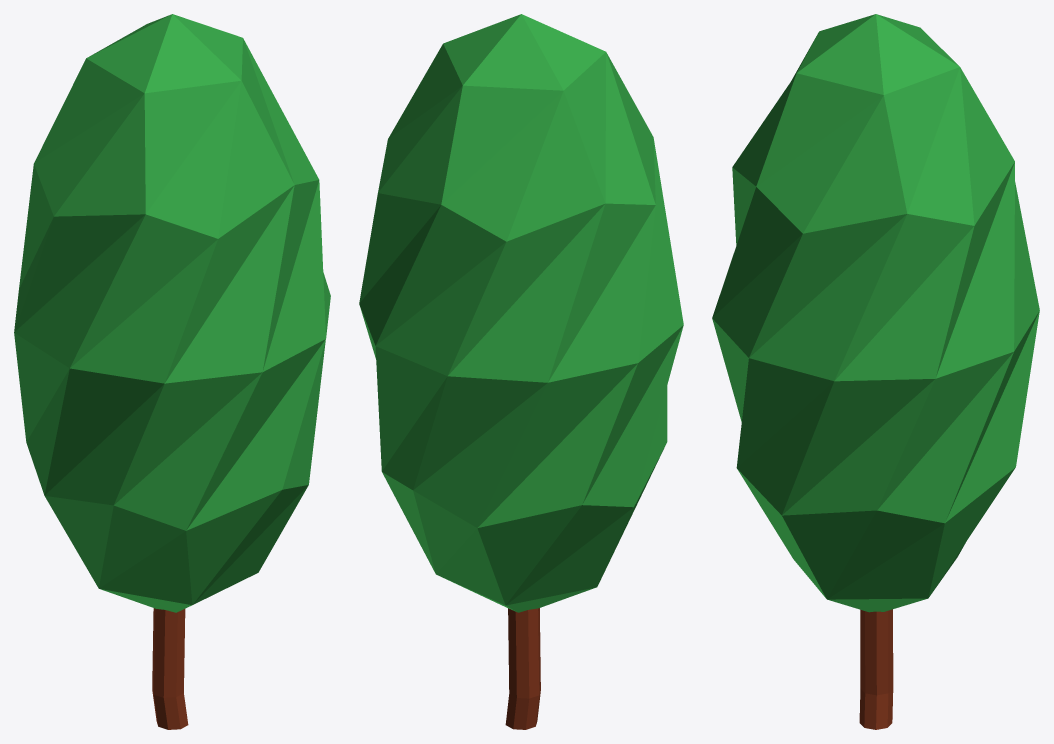
The model's file is tree.3.fbx.
The picture shows the model from 3 angles, left to right: view 1: azimuth 30°, elevation 25°; view 2: azimuth 150°, elevation 25°; view 3: azimuth 270°, elevation 25°; orthographic projection.
Parts seen in each view (by area): view 1: Tree.003; view 2: Tree.003; view 3: Tree.003.
Boxes of the visible parts, x1,y1,x2,y2 form: Tree.003: [14, 14, 330, 729]; Tree.003: [359, 14, 683, 729]; Tree.003: [712, 14, 1039, 729].
Bounding box in the file's own units: 387 × 953 × 399.
